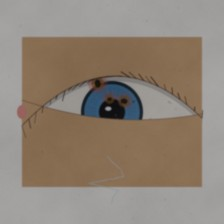foreign_body_visible: (107, 87, 141, 115)
